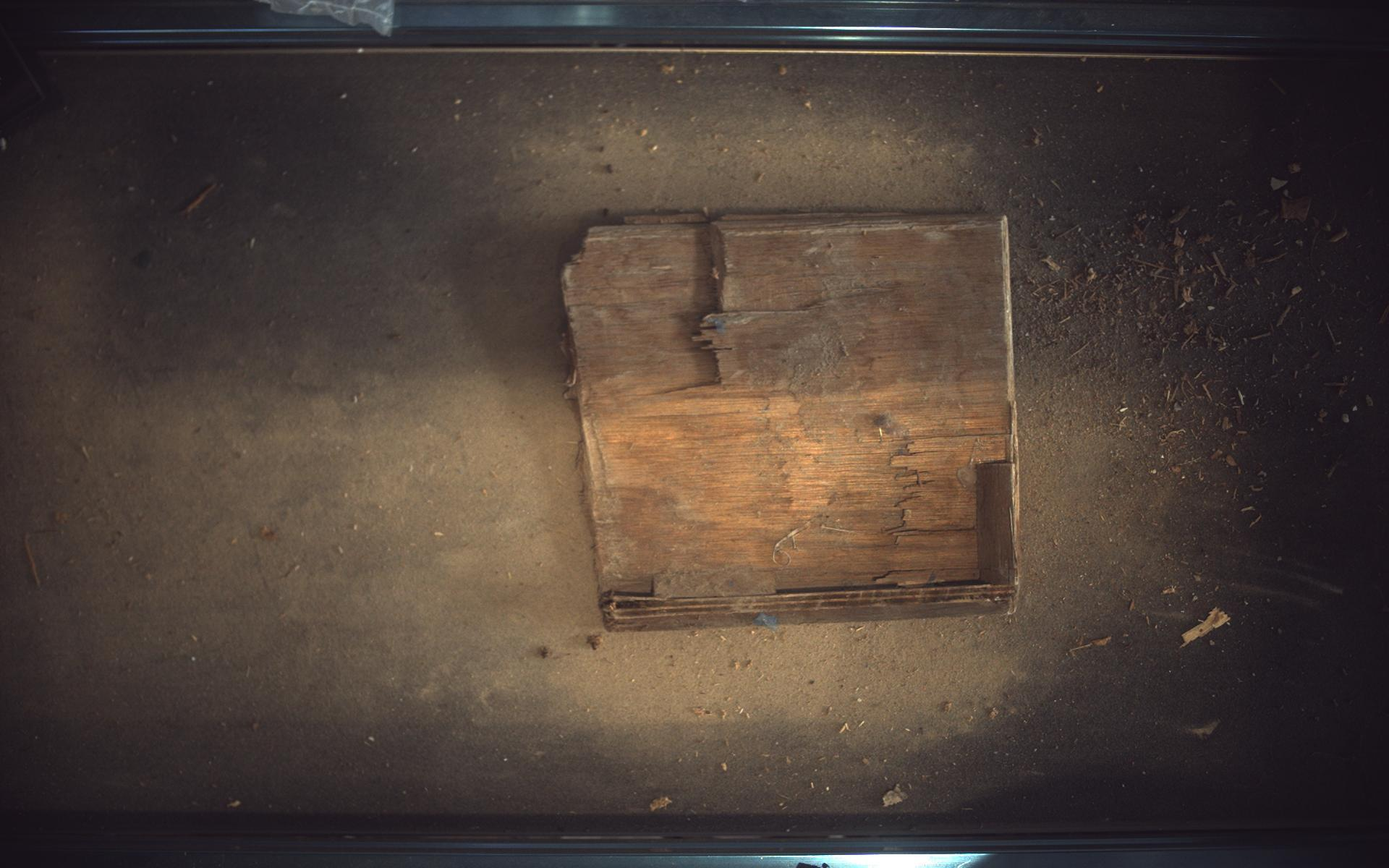wood: (563, 213, 1021, 631)
